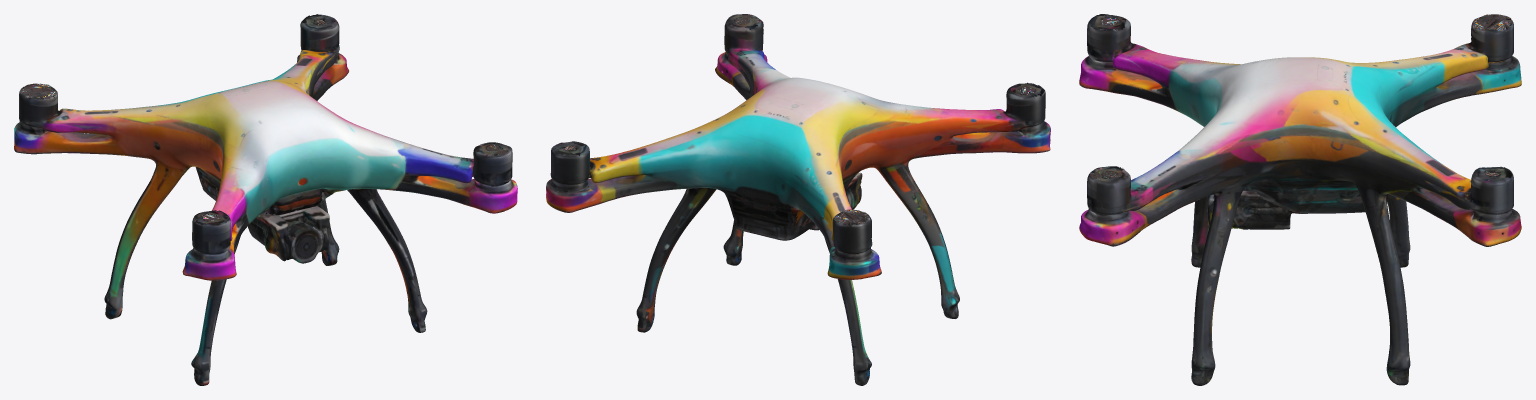
Rendered from drone7.glb.
3 views of the same model, side by side, from view 1: azimuth 30°, elevation 25°; view 2: azimuth 150°, elevation 25°; view 3: azimuth 270°, elevation 25° (orthographic). The views are drawn at different scales.
Parts seen in each view (by area): view 1: Mesh_0; view 2: Mesh_0; view 3: Mesh_0.
Part boxes in pixels (x1,y1,x2,y2): Mesh_0: (14, 14, 517, 385); Mesh_0: (546, 14, 1050, 385); Mesh_0: (1079, 14, 1521, 385).
Size of the model in its own units: 1.28 by 0.842 by 1.33.
1 material, 1 textured.
